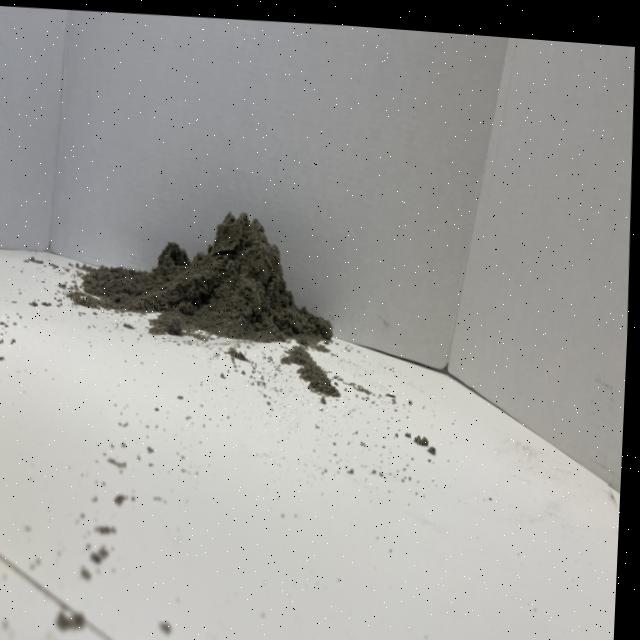sand: (67, 189, 354, 378)
